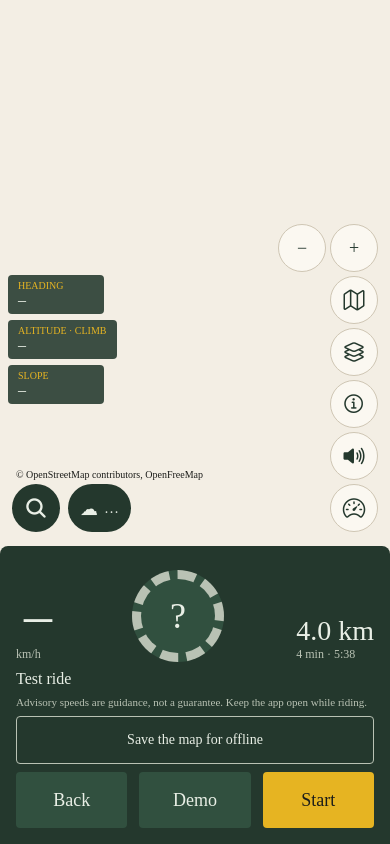
Test: the compass shows the point and the degrees of the GPS course while riding, and dashes before a fix
Expected: the element named "Heading unknown" is shown, [8,275,104,314]
Click the button "Start" at coordinates (318, 800), box [263,772,374,828]
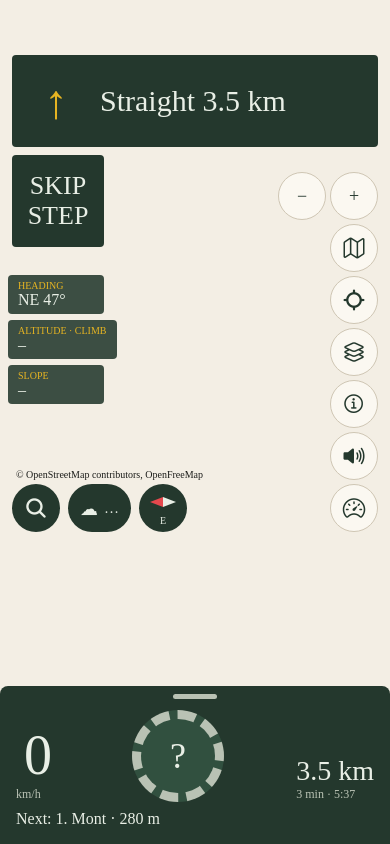
Result: the element named "Heading NE, 47 degrees" is shown at [8,275,104,314]
Result: the text "NE 47°" is shown at [18,291,66,308]
